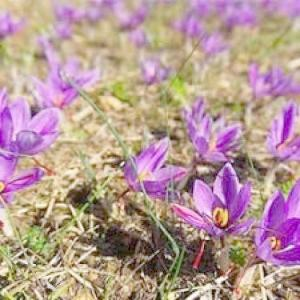Saffron: (176, 166, 252, 230), (256, 188, 300, 273), (128, 140, 183, 198), (191, 107, 249, 161), (265, 104, 300, 163)
